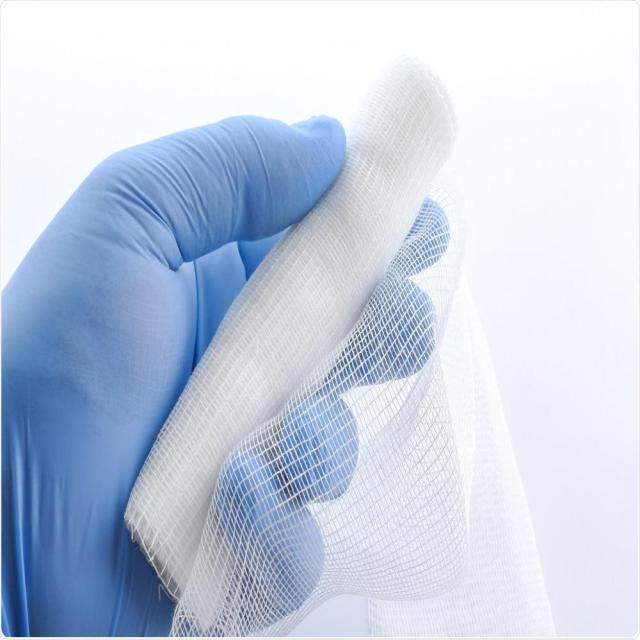B3: (110, 41, 512, 604)
